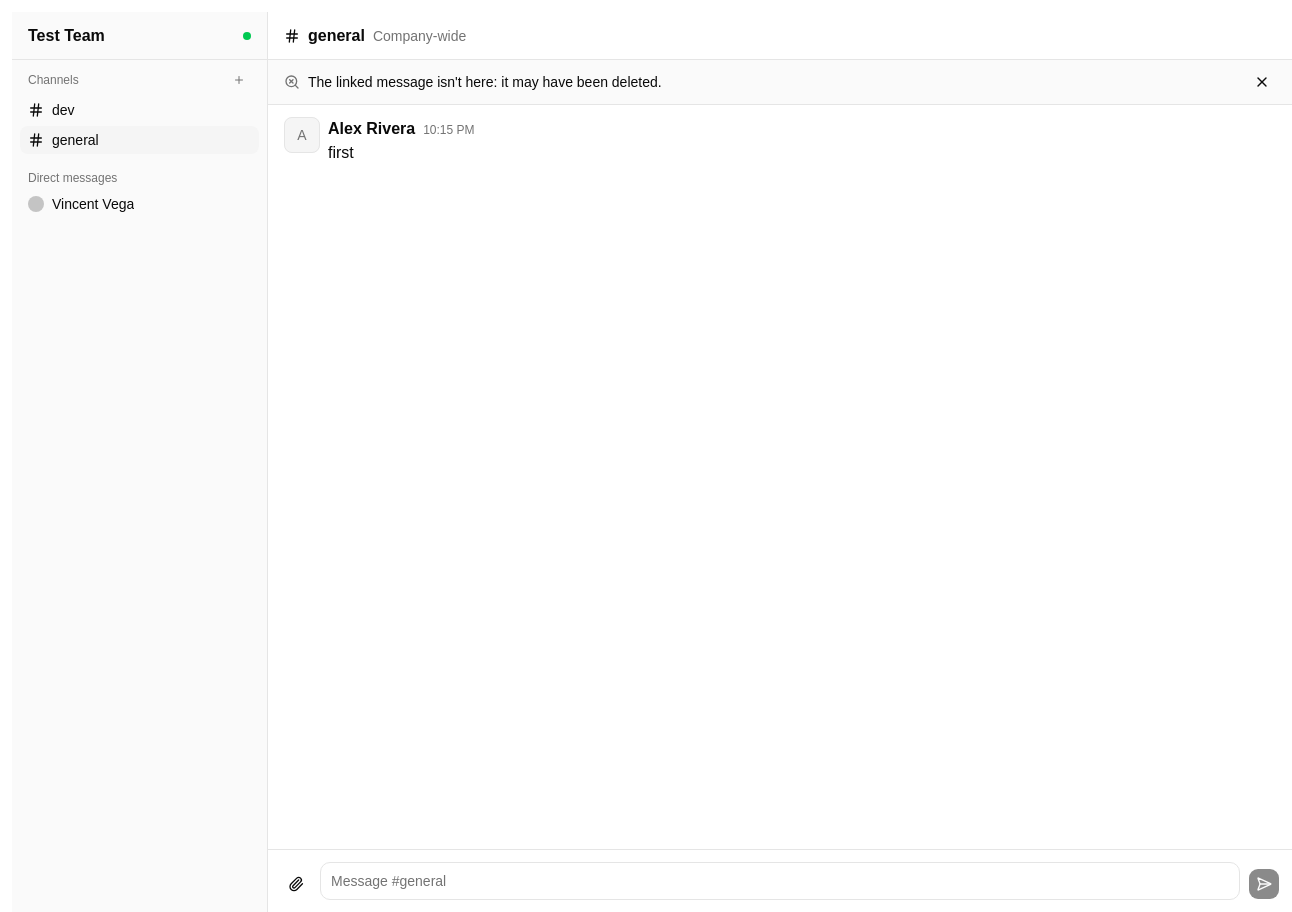
Test: links to a message › say so when the message isn't there, and the notice can be dismissed
Expected: the message named "Connected" is shown, left=243, top=32, right=251, bottom=40
Expected: the text "The linked message isn't here: it may have been deleted." is shown, left=268, top=60, right=1291, bottom=105
Click the button named "Dismiss": (1262, 82) left=1248, top=68, right=1276, bottom=96
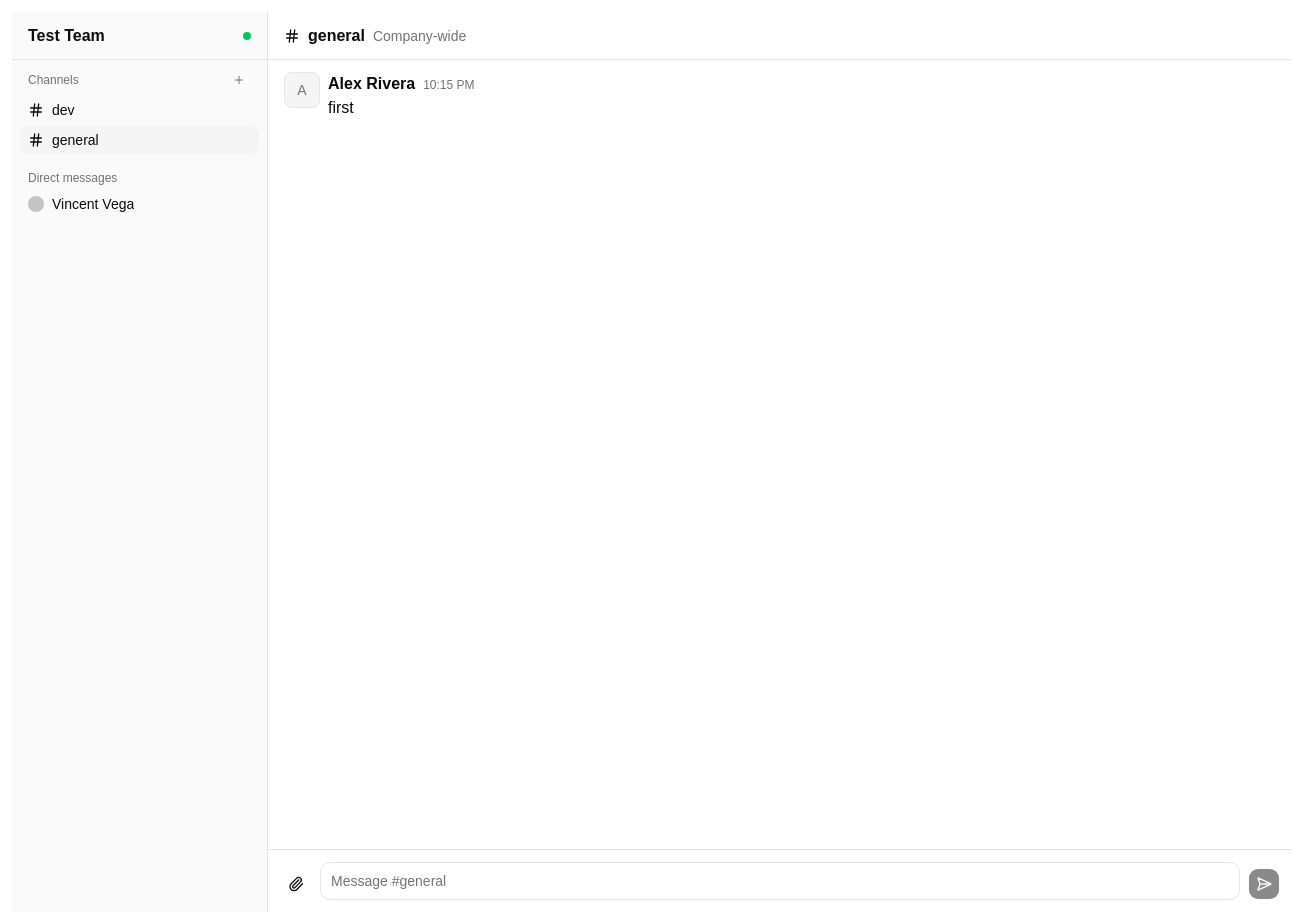
Expected: the text "The linked message isn't here" is gone
